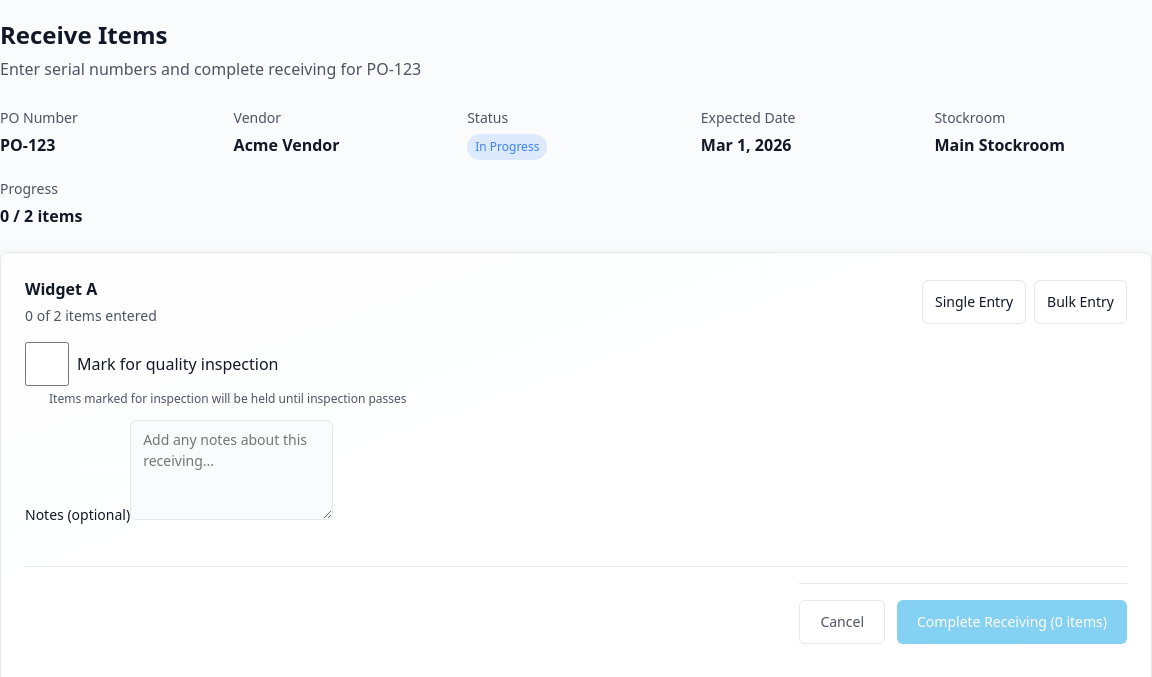
it: ReceivingForm › enables complete receiving after a serial is entered and scanned
The width and height of the screenshot is (1152, 677).
Expected: the heading "Receive Items" is shown, [0,18,167,51]
Expected: the button "Complete Receiving (0 items)" is disabled, [897,600,1127,644]
Click the button "Single Entry". click: (974, 302)
box: [922,280,1026,324]
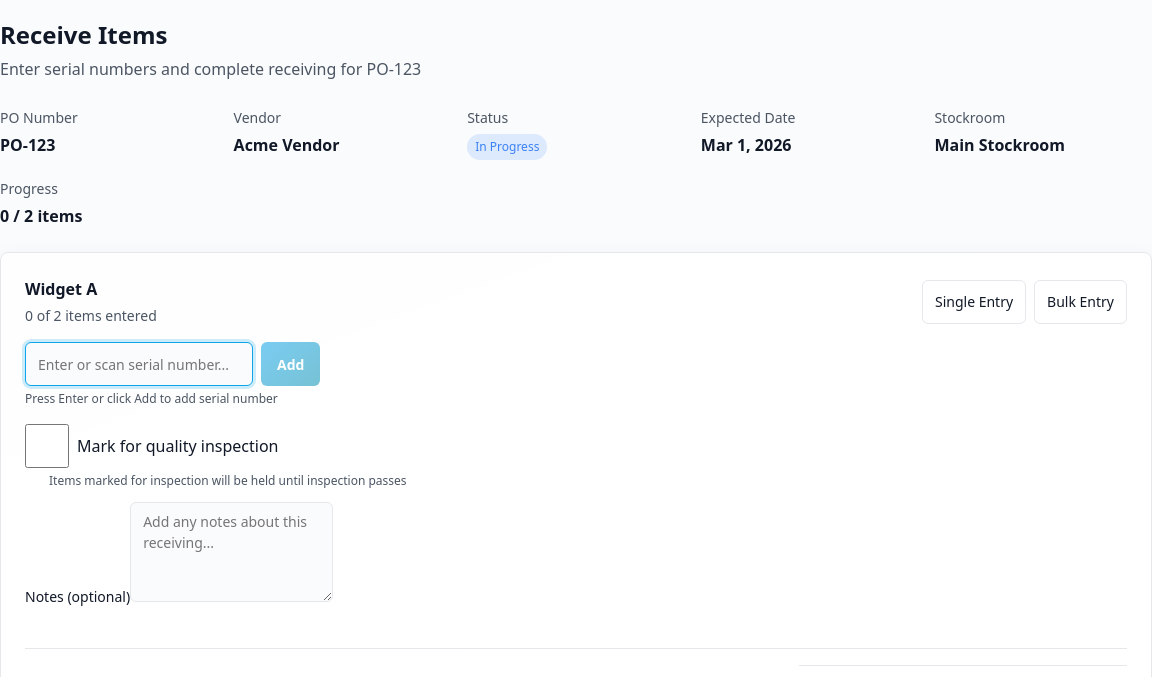
Type "SN-001" into the field with placeholder "Enter or scan serial number...". click: (139, 364)
box: [25,342,253,386]
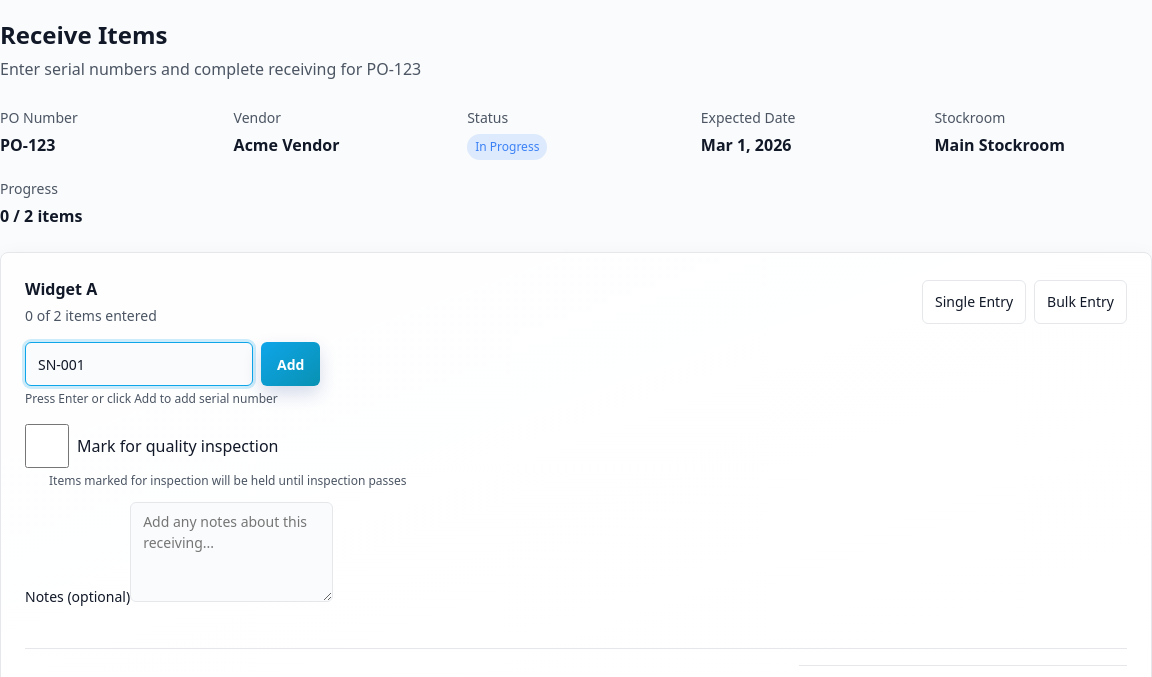
Click the button "Add". click: (291, 364)
box: [261,342,320,386]
(page scrolled)
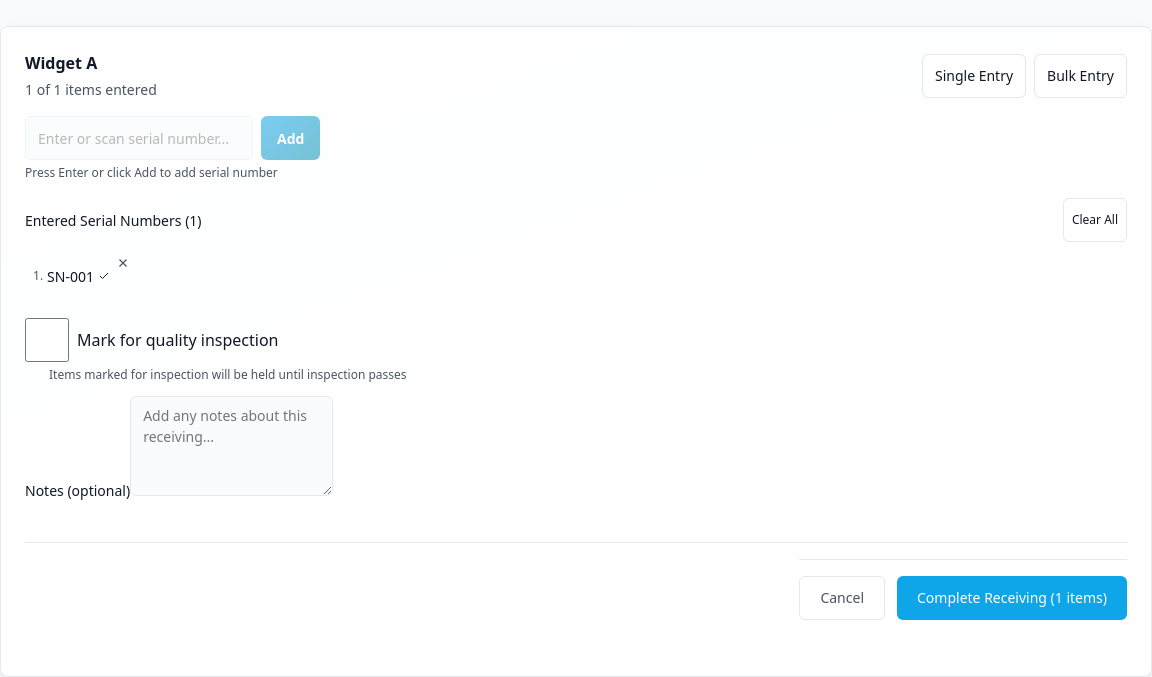
Now the button "Complete Receiving (1 items)" is enabled, box [897,576,1127,620]
